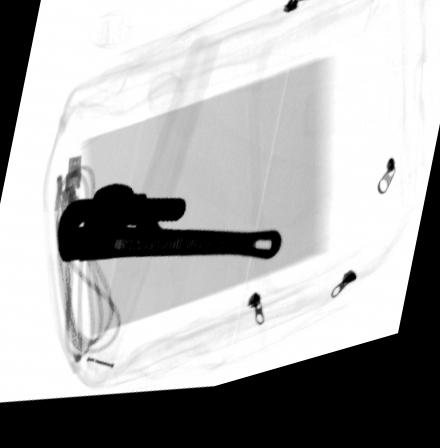Wrench: (54, 187, 282, 278)
